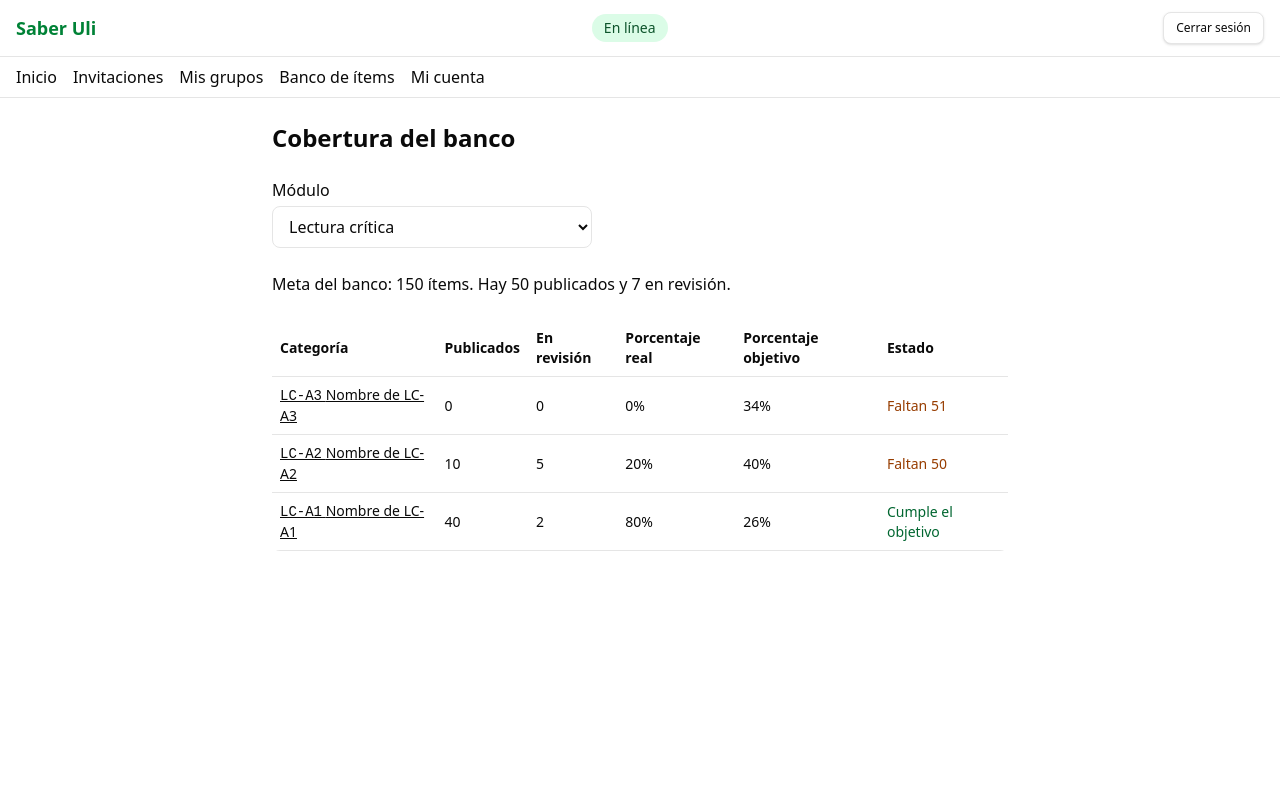
Scenario: cobertura del banco › cambia de módulo; sin pesos muestra solo los totales
The width and height of the screenshot is (1280, 800).
expect the table named "Cobertura de Lectura crítica" is shown: met, box x1=272 y1=320 x2=1008 y2=551
Select "Comunicación escrita" in the dropdown labelled "Módulo". click: point(432, 227)
box: x1=272 y1=206 x2=592 y2=248
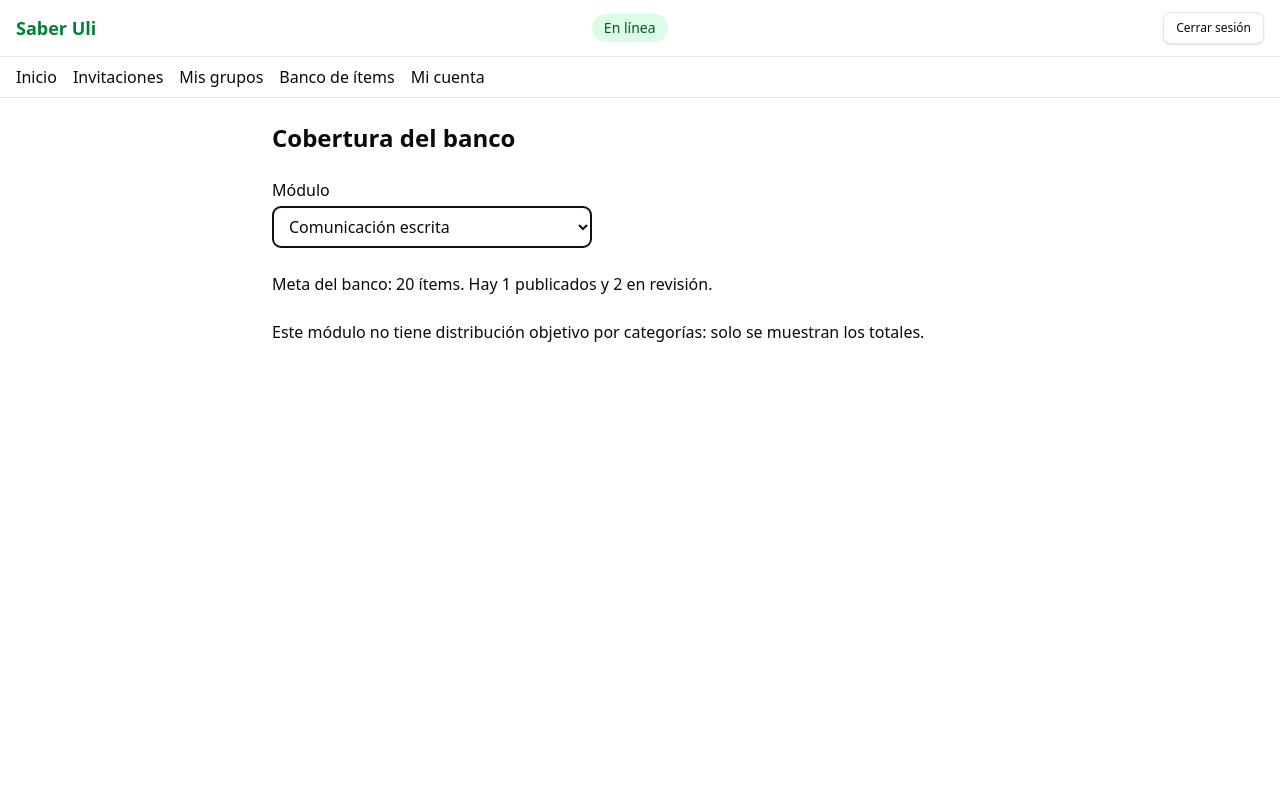
expect the text "Meta del banco: 20 ítems. Hay 1 publicados y 2 en revisión." is shown: met, box x1=272 y1=273 x2=712 y2=295
expect the text "Este módulo no tiene distribución objetivo" is shown: met, box x1=272 y1=321 x2=924 y2=343
expect the table is gone: met
